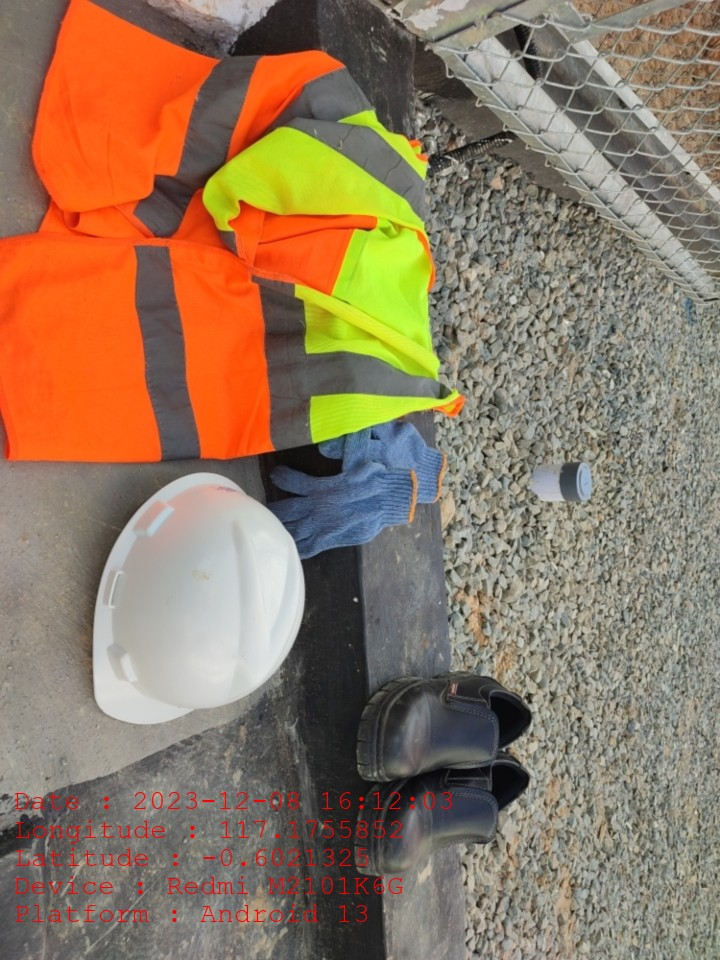HELM: (90, 472, 303, 724)
ROMPI: (1, 1, 446, 460)
